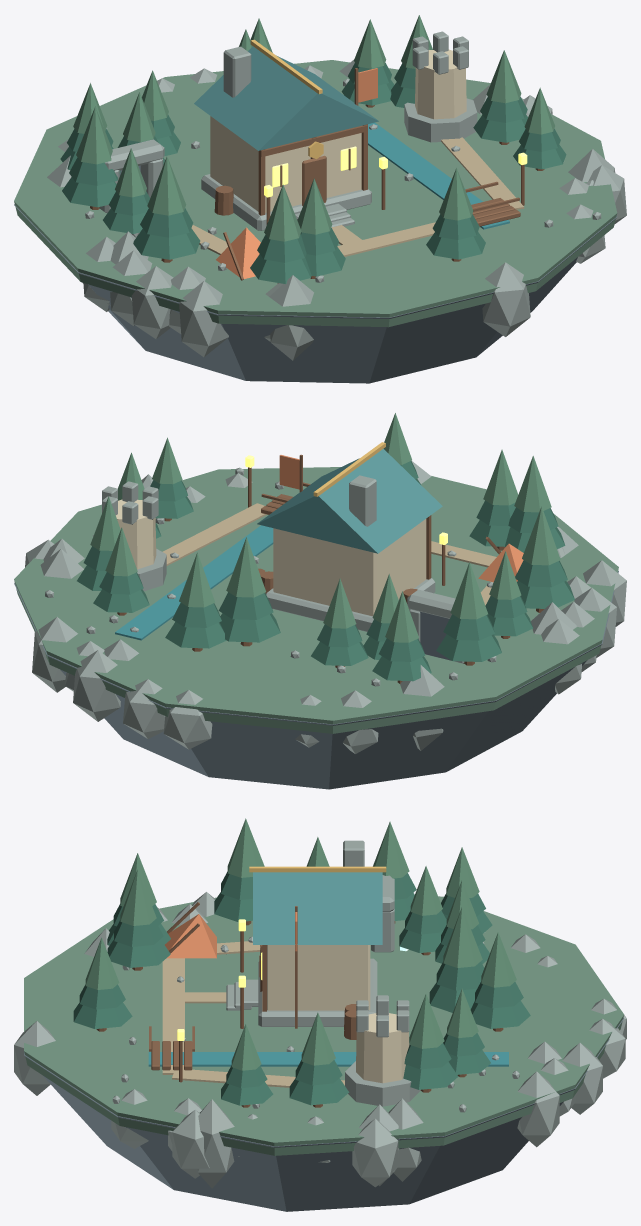
The model's file is guild-island.glb.
3 views of the same model, one above another, from view 1: azimuth 30°, elevation 25°; view 2: azimuth 150°, elevation 25°; view 3: azimuth 270°, elevation 25° (orthographic).
Parts seen in each view (by area): view 1: Island crown, Island bedrock, Guild copper roof, Guild hall, Watchtower, Cliff facet.011, River, Cliff facet.004, Cliff facet.009, Watchtower base, Cliff facet.002, Guild foundation (+48 smaller); view 2: Island crown, Island bedrock, Guild hall, Guild copper roof, River, Cliff facet.007, Cliff facet.010, Cliff facet.003, Footpath.004, Cliff facet.012, Watchtower, Guild foundation (+53 smaller); view 3: Island crown, Island bedrock, Guild copper roof, Guild hall, Watchtower, Cliff facet.014, Cliff facet.012, Cliff facet.008, River, Guild foundation, Watchtower base, Cliff facet.021 (+47 smaller).
Boxes of the visible parts, x1,y1,x2,y2 form: Island crown: (14, 60, 617, 327); Island bedrock: (14, 204, 617, 383); Guild copper roof: (194, 46, 378, 150); Guild hall: (210, 116, 361, 212); Watchtower: (415, 49, 466, 119); Cliff facet.011: (482, 262, 530, 336); River: (368, 122, 509, 229); Cliff facet.004: (179, 281, 228, 357); Cliff facet.009: (131, 266, 173, 338); Watchtower base: (404, 98, 477, 142); Cliff facet.002: (269, 275, 313, 360); Guild foundation: (201, 174, 371, 230); Island crown: (14, 467, 618, 733); Island bedrock: (14, 571, 618, 789); Guild hall: (273, 519, 426, 616); Guild copper roof: (257, 449, 442, 553); River: (115, 525, 273, 640); Cliff facet.007: (73, 650, 120, 721); Cliff facet.010: (163, 690, 212, 749); Cliff facet.003: (123, 679, 165, 738); Footpath.004: (162, 503, 266, 565); Cliff facet.012: (32, 617, 77, 692); Watchtower: (116, 499, 156, 569); Guild foundation: (266, 578, 435, 631); Island crown: (24, 896, 624, 1155); Island bedrock: (24, 1018, 624, 1211); Guild copper roof: (253, 872, 382, 944); Guild hall: (267, 945, 370, 1010); Watchtower: (356, 1013, 409, 1083); Cliff facet.014: (352, 1118, 398, 1187); Cliff facet.012: (517, 1071, 559, 1147); Cliff facet.008: (197, 1099, 234, 1188); River: (148, 1052, 508, 1066); Guild foundation: (258, 958, 377, 1026); Watchtower base: (345, 1061, 420, 1106); Cliff facet.021: (172, 1110, 209, 1178).
Size of the model in its own units: 16.88 by 7.5 by 17.01.
